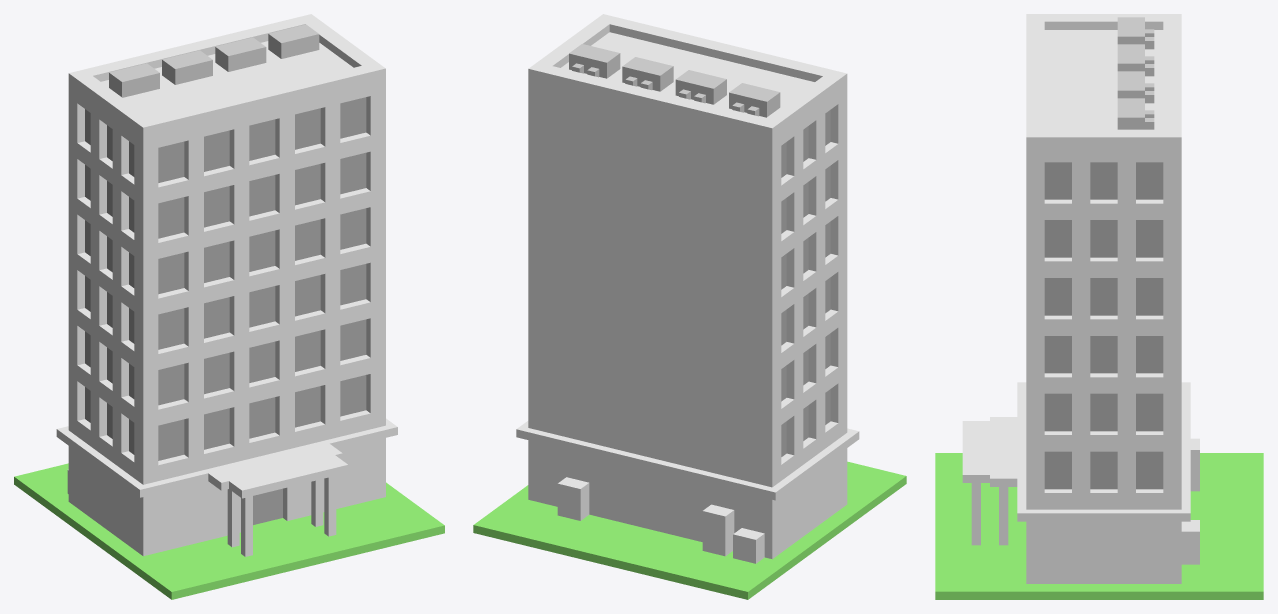
The picture shows the model from 3 angles, left to right: view 1: azimuth 30°, elevation 25°; view 2: azimuth 150°, elevation 25°; view 3: azimuth 270°, elevation 25°; orthographic projection. The views are drawn at different scales.
Parts seen in each view (by area): view 1: ObjObject.010; view 2: ObjObject.010; view 3: ObjObject.010.
Boxes of the visible parts, x1,y1,x2,y2 form: ObjObject.010: (14, 14, 444, 599); ObjObject.010: (473, 14, 906, 599); ObjObject.010: (935, 14, 1263, 599).
Bounding box in the file's own units: 2 × 2 × 3.11.
